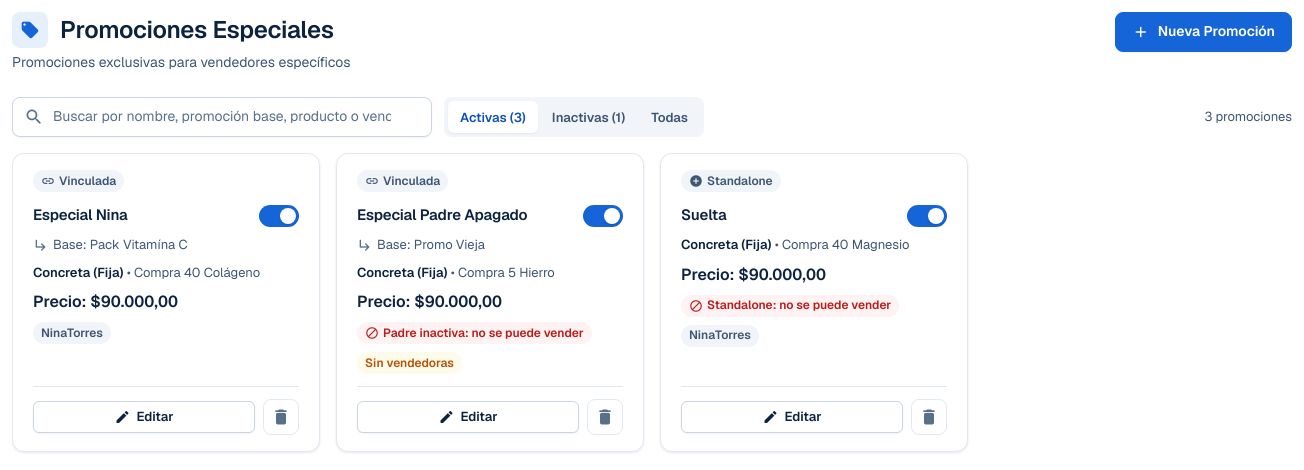
Test case: el switch envía el nuevo estado y la tarjeta cambia de pestaña
This screenshot has width=1304, height=470.
Check: the heading "Especial Nina" is shown, box top-left (33, 204), bottom-right (128, 225)
Step 1. Click the checkbox named "Desactivar Especial Nina" → (279, 216), box top-left (259, 204), bottom-right (299, 227)
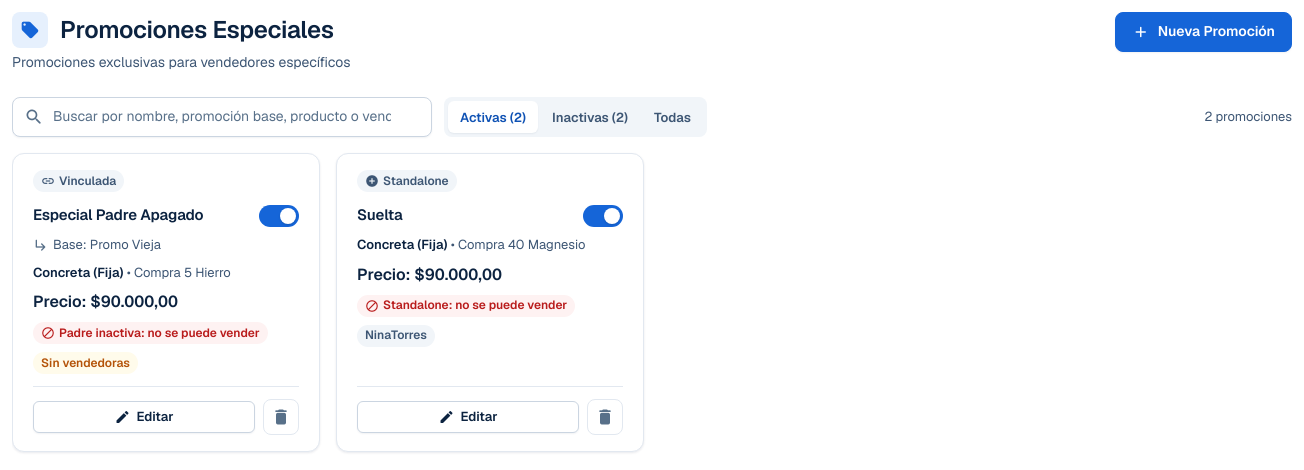
Check: the tab "Inactivas (2)" is shown, box top-left (540, 101), bottom-right (640, 133)
Check: the heading "Especial Nina" is gone
